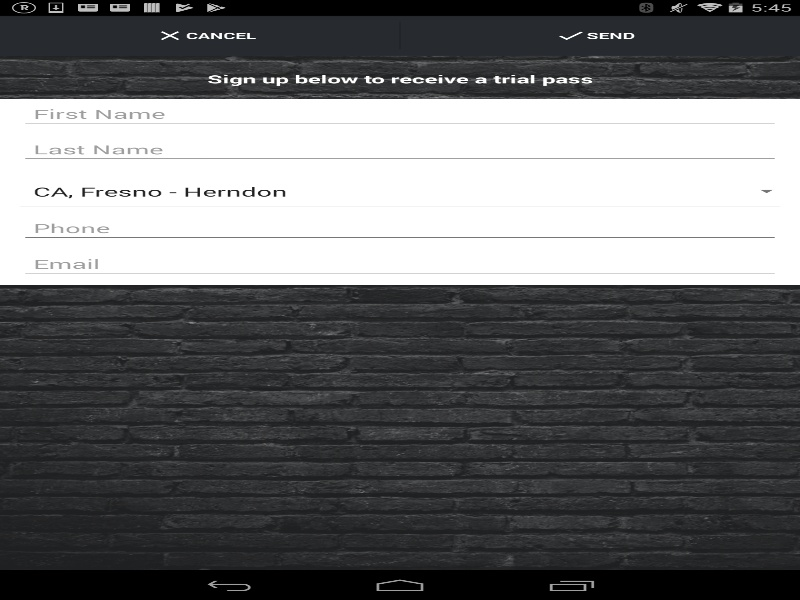Button: (33, 176, 780, 206)
Input: (20, 134, 780, 164), (20, 99, 780, 128), (20, 213, 780, 242), (20, 249, 780, 278)
